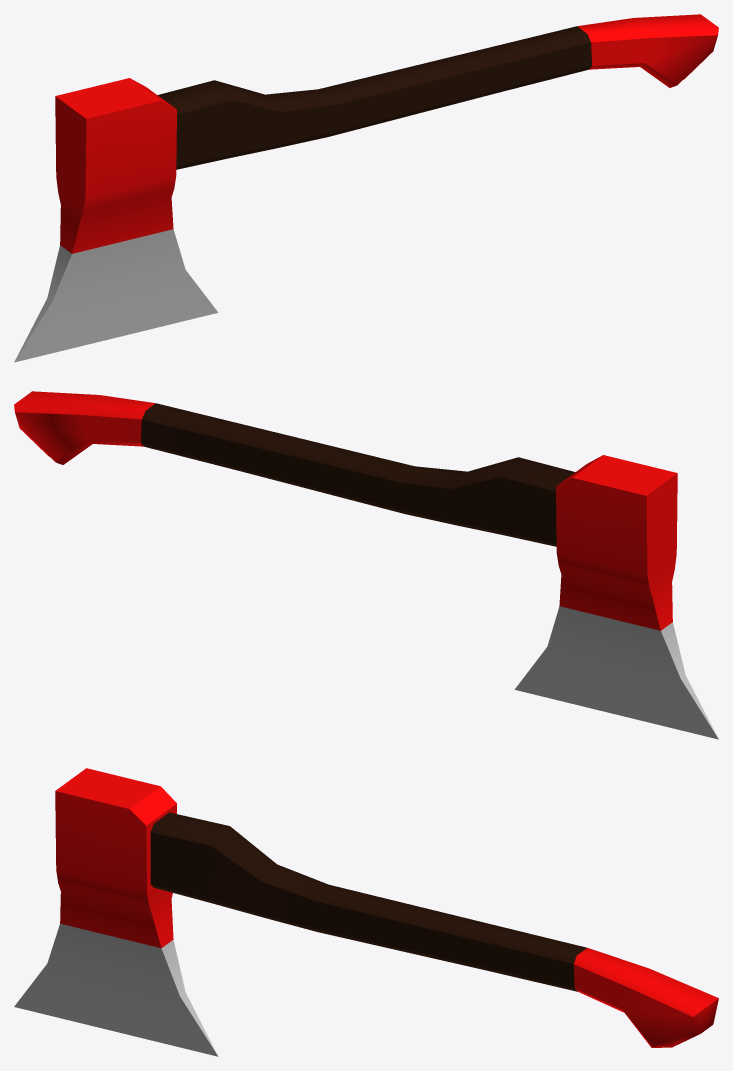
The model's file is M_Axe.FBX.
The picture shows the model from 3 angles, top to bottom: view 1: azimuth 30°, elevation 25°; view 2: azimuth 150°, elevation 25°; view 3: azimuth 330°, elevation 25°; orthographic projection.
Parts seen in each view (by area): view 1: M_Axe; view 2: M_Axe; view 3: M_Axe.
Boxes of the visible parts, <box> form: M_Axe: <box>14,14,718,362</box>; M_Axe: <box>14,391,718,739</box>; M_Axe: <box>14,768,718,1056</box>.
Size of the model in its own units: 51.21 by 16.96 by 3.97.
